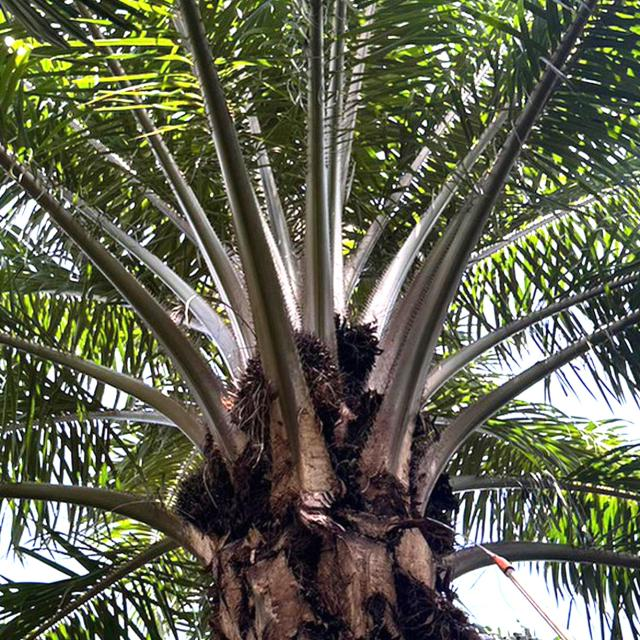ripe: (228, 329, 352, 436), (174, 455, 241, 530)
